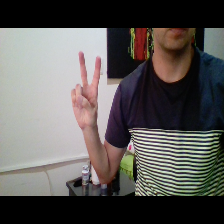KP: (67, 47, 105, 129)
